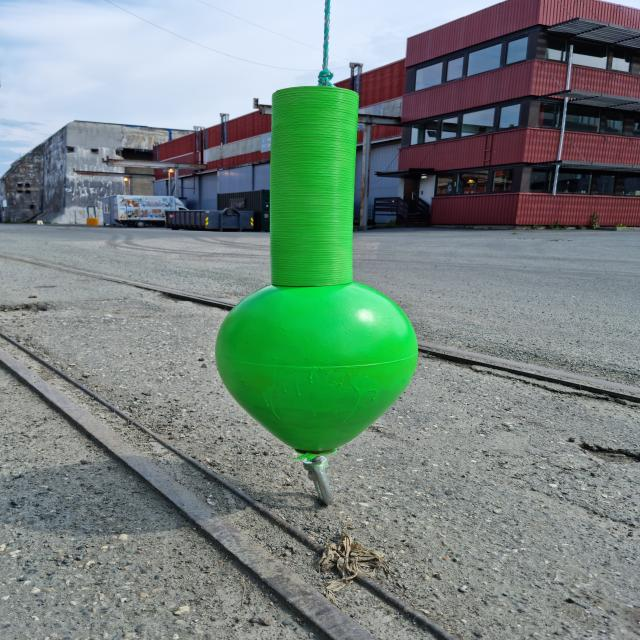green: (213, 83, 420, 456)
